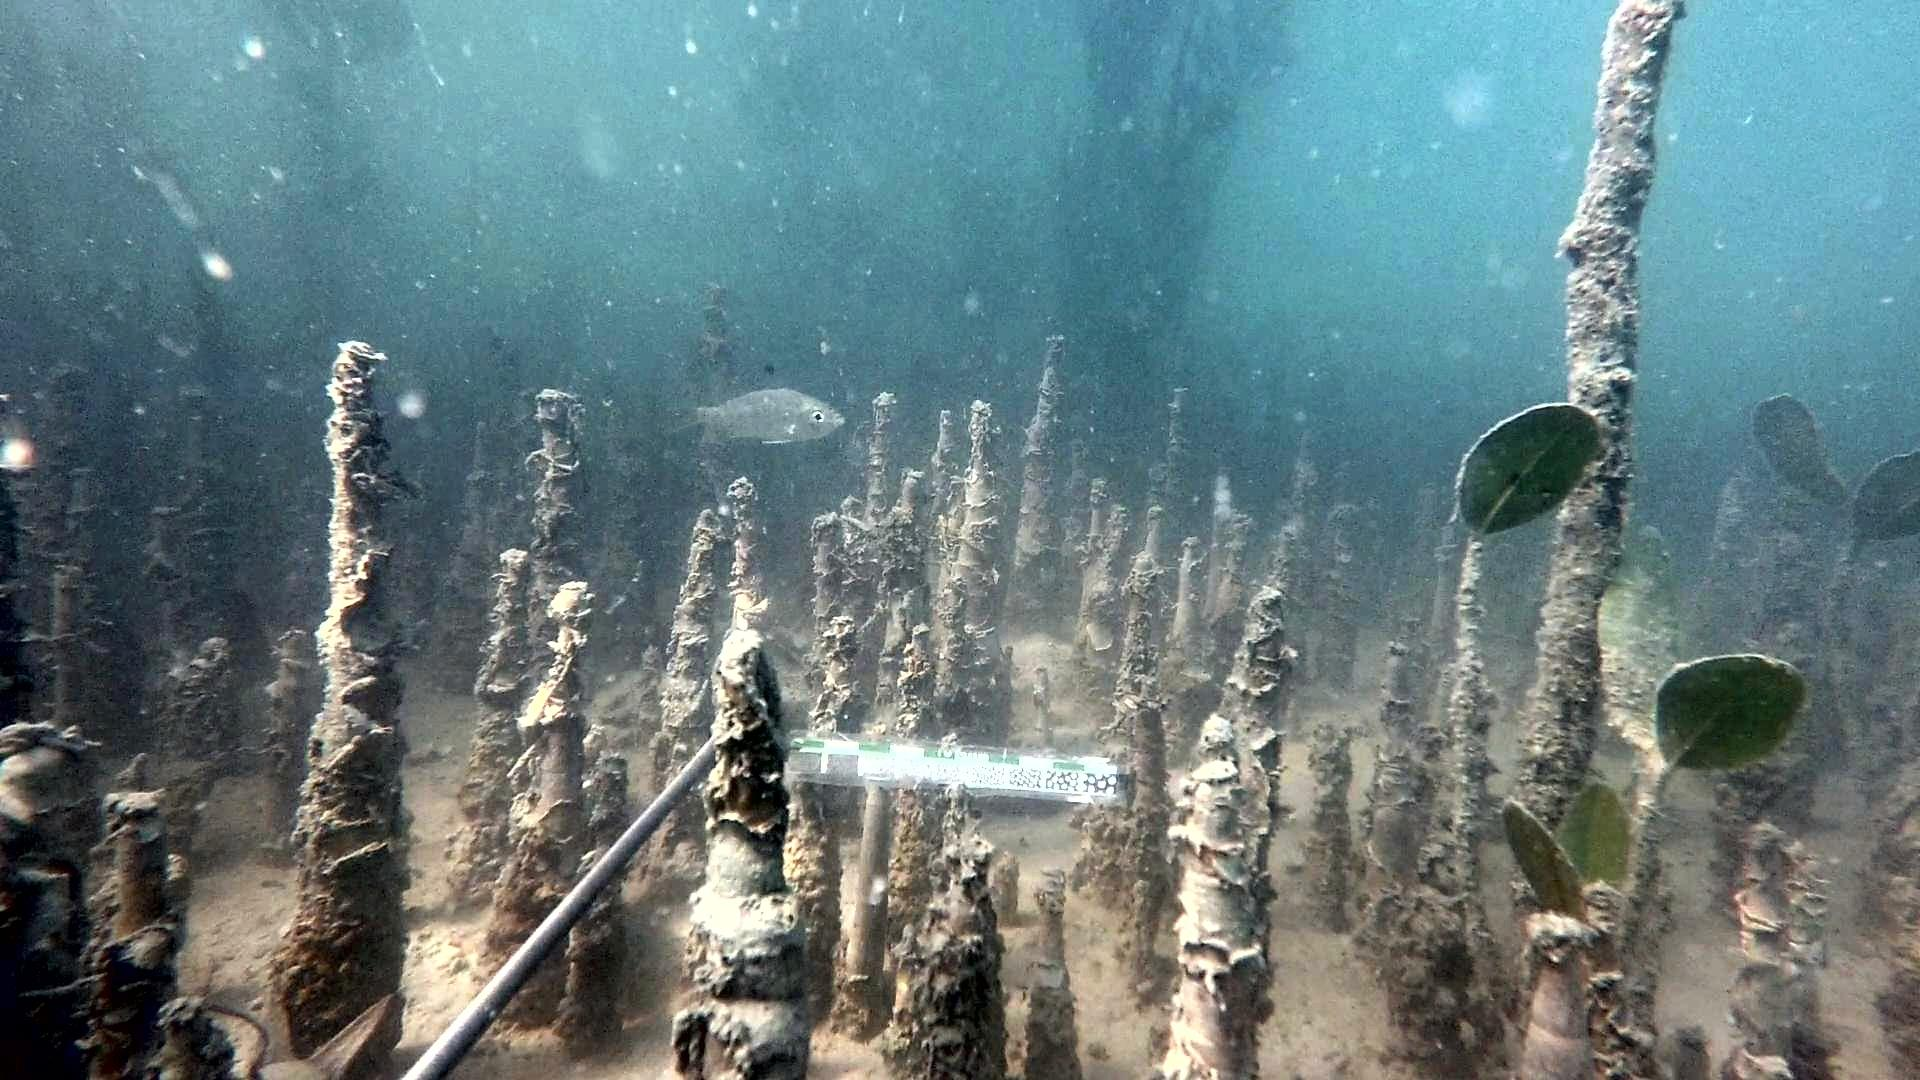gerres: (667, 363, 847, 446)
